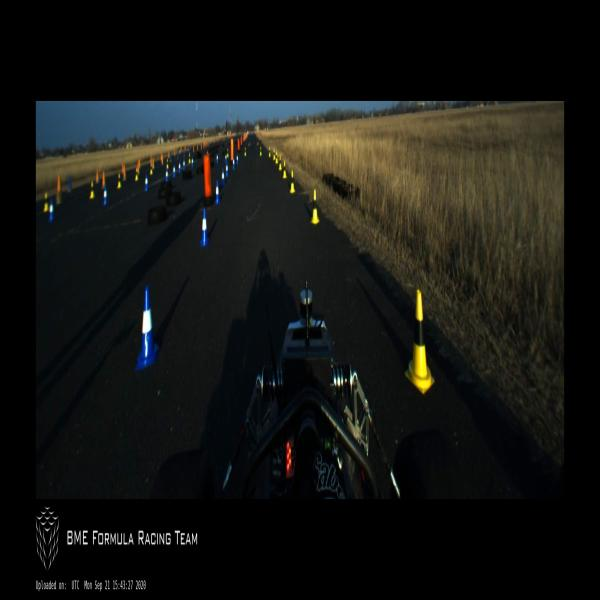blue_cone: (136, 286, 159, 370), (199, 205, 210, 248), (214, 180, 220, 206), (49, 198, 54, 222), (103, 185, 108, 205), (220, 167, 225, 186), (225, 162, 229, 177), (145, 175, 148, 191), (178, 161, 181, 173), (191, 157, 194, 169), (216, 153, 219, 164), (236, 154, 239, 164), (166, 169, 168, 182), (173, 165, 175, 178), (225, 152, 227, 164), (233, 158, 235, 169), (183, 158, 185, 169)
unknown_cone: (57, 173, 62, 204), (102, 171, 105, 188), (123, 164, 126, 181)
yellow_cone: (406, 289, 434, 395), (311, 189, 319, 223), (43, 190, 49, 212), (290, 170, 295, 193), (90, 182, 95, 198), (117, 173, 122, 188), (283, 161, 286, 178), (279, 154, 282, 170), (150, 162, 153, 175), (135, 168, 138, 180), (166, 158, 169, 169), (276, 151, 278, 164), (273, 149, 275, 160), (244, 146, 246, 157), (268, 147, 270, 157), (260, 146, 262, 156), (227, 148, 229, 158), (189, 153, 190, 164)
